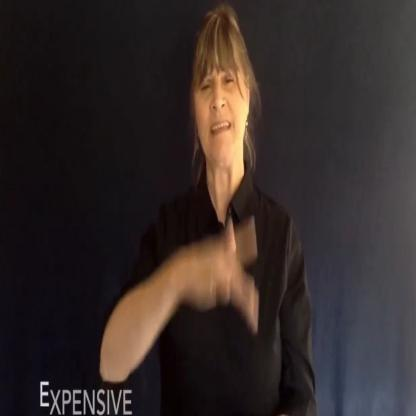Expensive: (166, 196, 266, 356)
